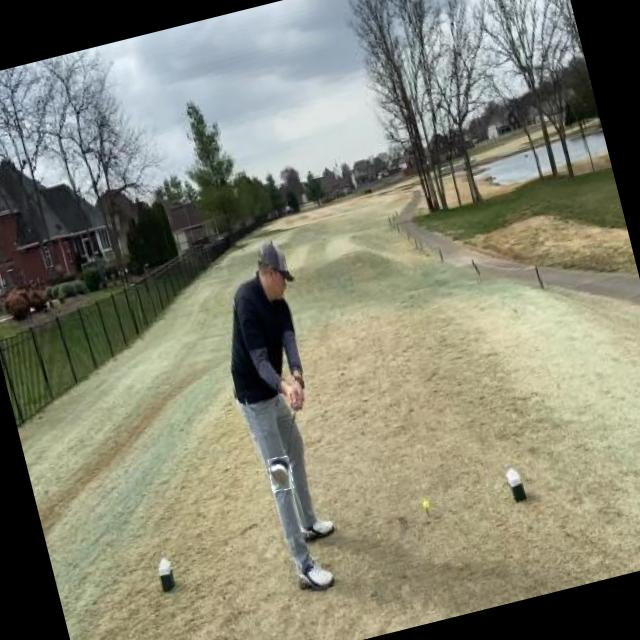club head: (266, 454, 296, 492)
